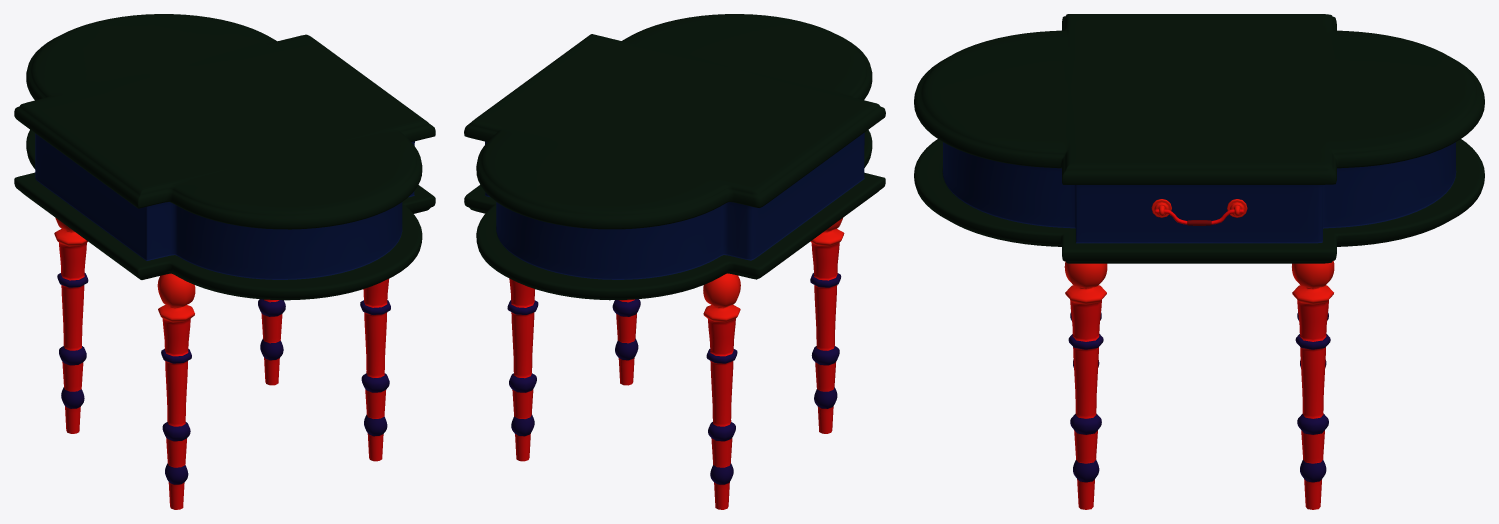
The model's file is MesaGramofono_FinalConfig.fbx.
3 renders of one model, left to right at view 1: azimuth 30°, elevation 25°; view 2: azimuth 150°, elevation 25°; view 3: azimuth 270°, elevation 25°, orthographic. The views are drawn at different scales.
Visible parts, largest first — view 1: Cylinder.007; view 2: Cylinder.007; view 3: Cylinder.007.
Boxes of the visible parts, x1,y1,x2,y2 form: Cylinder.007: [14, 14, 435, 509]; Cylinder.007: [464, 14, 885, 509]; Cylinder.007: [914, 14, 1484, 509].
Size of the model in its own units: 281 by 300 by 426.
